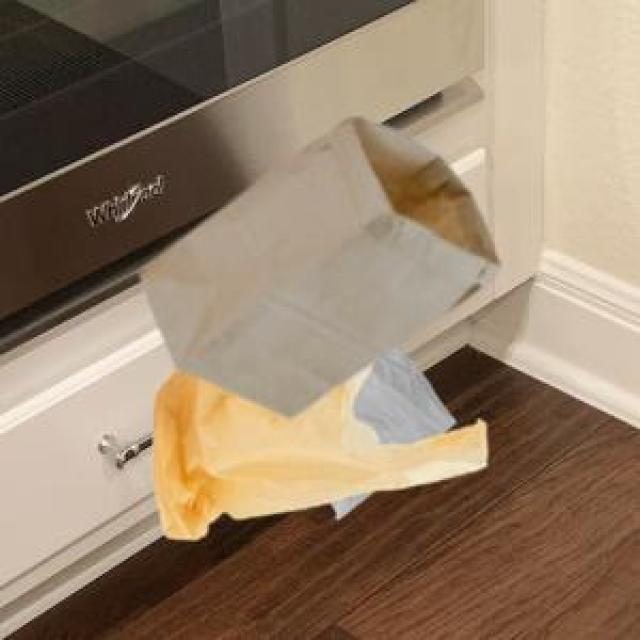paper: (137, 113, 497, 414)
